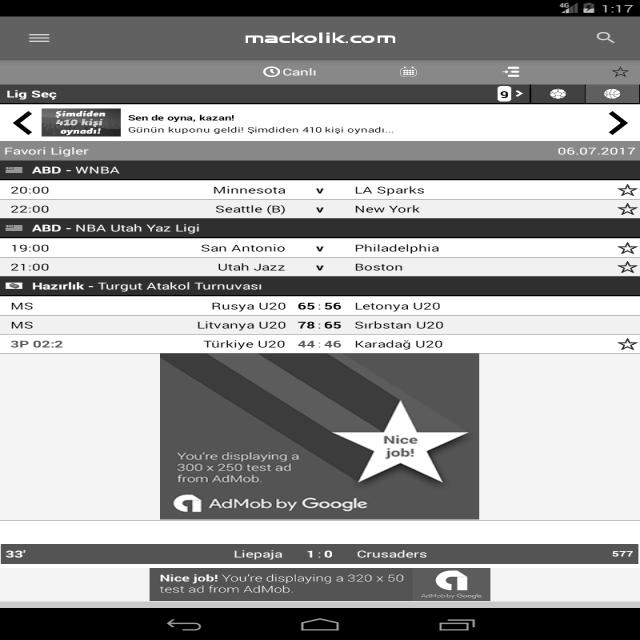ImageButton: (598, 105, 638, 141), (26, 30, 87, 50), (4, 107, 38, 140)
TextView: (29, 276, 462, 351), (24, 220, 430, 274), (6, 180, 443, 214), (144, 565, 406, 601), (130, 107, 398, 139), (166, 446, 291, 484), (234, 26, 416, 50), (202, 493, 394, 513), (0, 143, 117, 163), (31, 163, 154, 179), (345, 539, 440, 559), (219, 542, 292, 562), (254, 61, 326, 78), (20, 83, 58, 103)
